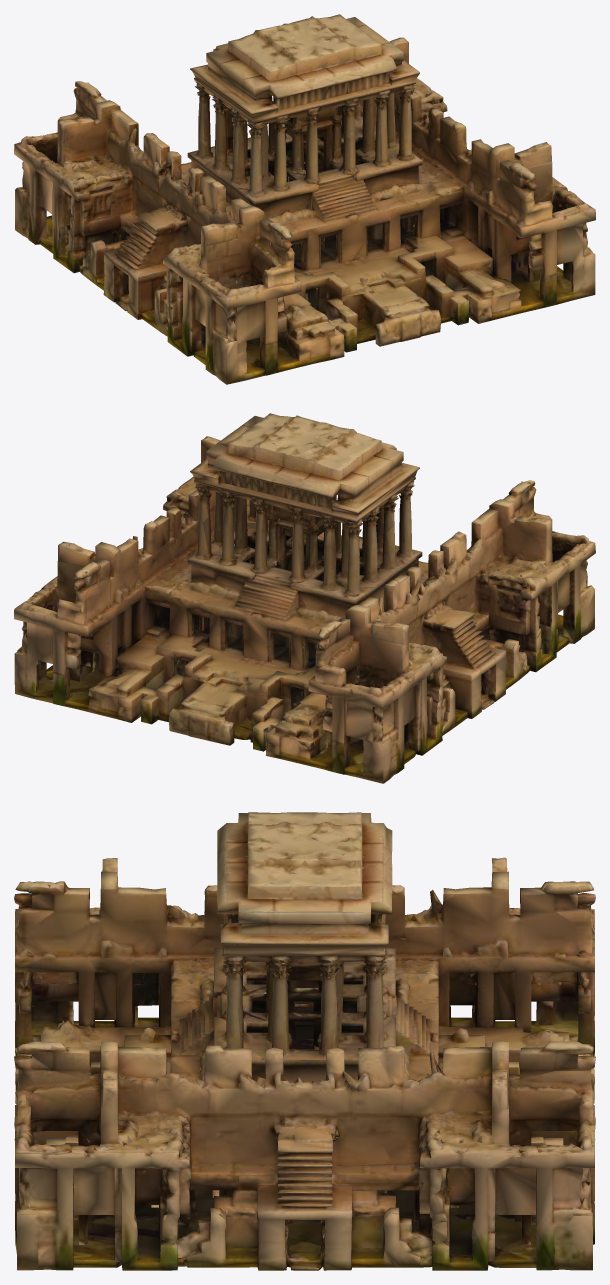
File: A_very_large_ancient_.glb
The picture shows the model from 3 angles, top to bottom: view 1: azimuth 30°, elevation 25°; view 2: azimuth 150°, elevation 25°; view 3: azimuth 270°, elevation 25°; orthographic projection. The views are drawn at different scales.
Parts seen in each view (by area): view 1: A_very_large_ancient_; view 2: A_very_large_ancient_; view 3: A_very_large_ancient_.
Part boxes in pixels (bbox=[...]): A_very_large_ancient_: bbox=[14, 14, 595, 384]; A_very_large_ancient_: bbox=[14, 413, 595, 783]; A_very_large_ancient_: bbox=[14, 812, 595, 1270].
Bounding box in the file's own units: 1.9 × 1.12 × 1.9.
Materials: 1 (1 with a texture image).
